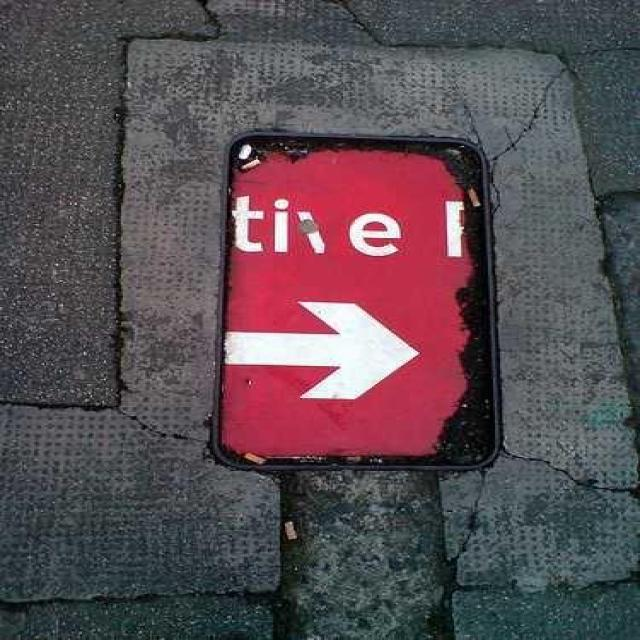manhole: (212, 132, 502, 476)
